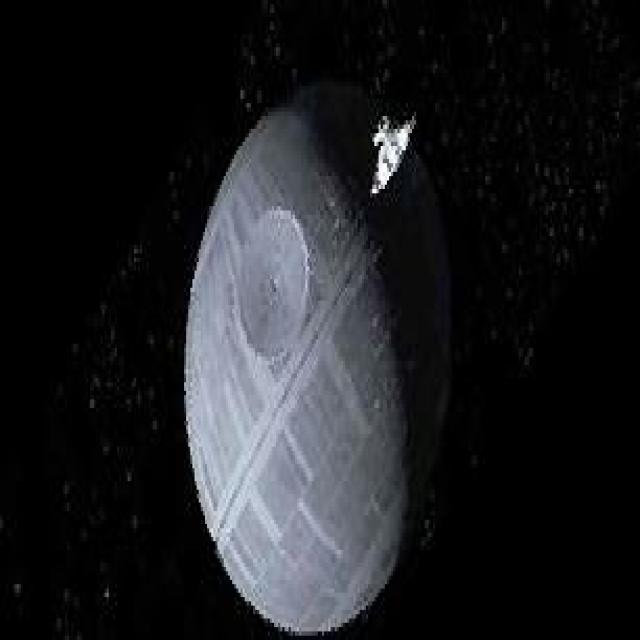Death Star: (185, 92, 454, 636)
